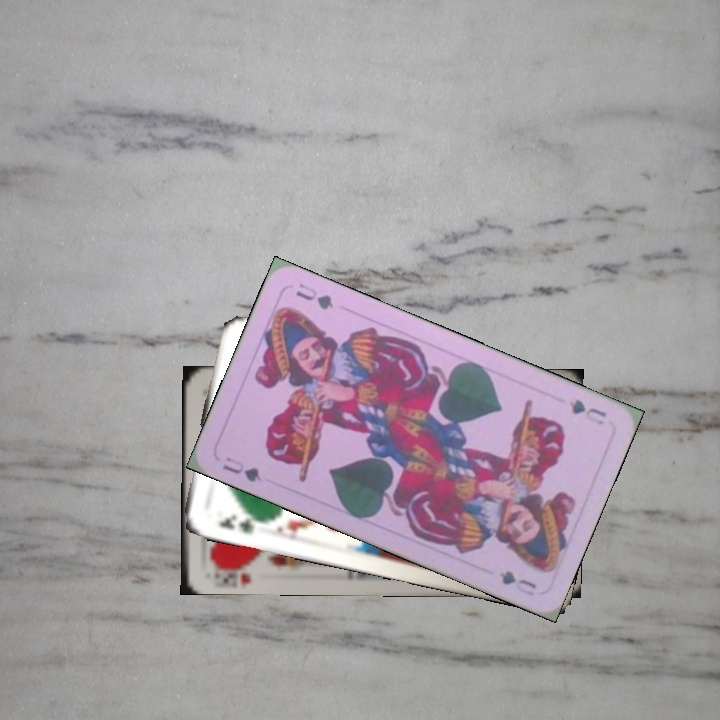GK: (214, 510, 264, 536)
GU: (218, 452, 265, 485), (564, 395, 609, 428)
HK: (210, 559, 253, 586)
